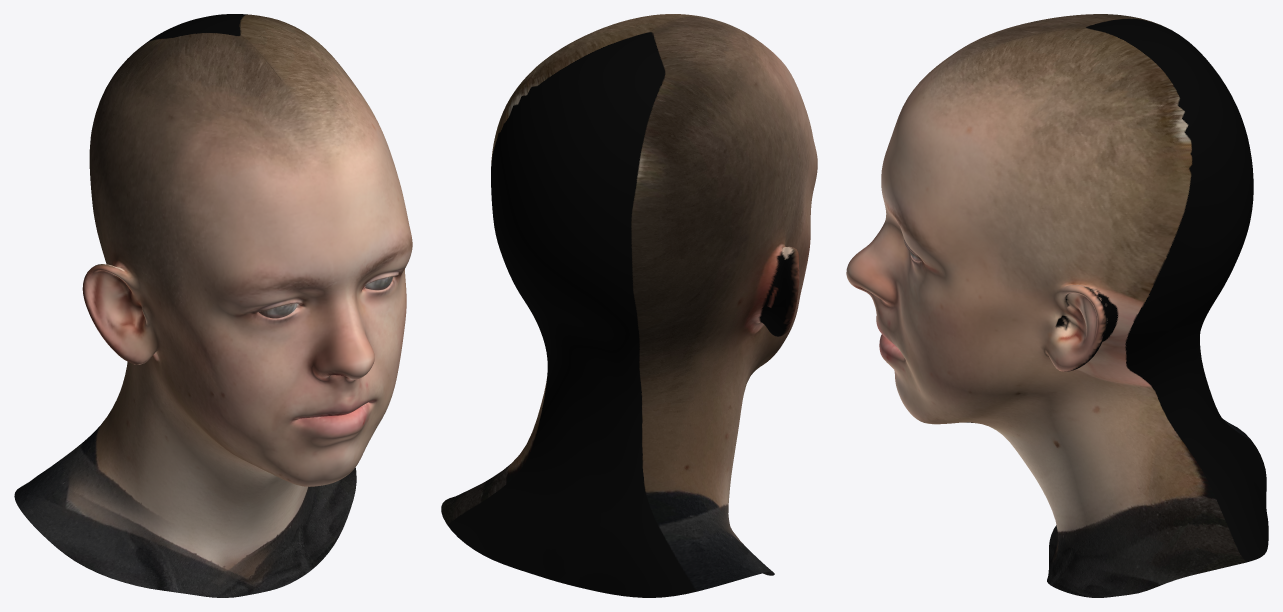
The model's file is donny.glb.
3 renders of one model, left to right at view 1: azimuth 30°, elevation 25°; view 2: azimuth 150°, elevation 25°; view 3: azimuth 270°, elevation 25°, orthographic. The views are drawn at different scales.
Visible parts, largest first — view 1: FaceBuilderHead; view 2: FaceBuilderHead; view 3: FaceBuilderHead.
Part boxes in pixels (x1,y1,x2,y2): FaceBuilderHead: (14, 14, 412, 597); FaceBuilderHead: (441, 14, 817, 597); FaceBuilderHead: (846, 14, 1268, 597).
Size of the model in its own units: 1.57 by 2.54 by 1.8.
2 materials, 2 textured.
